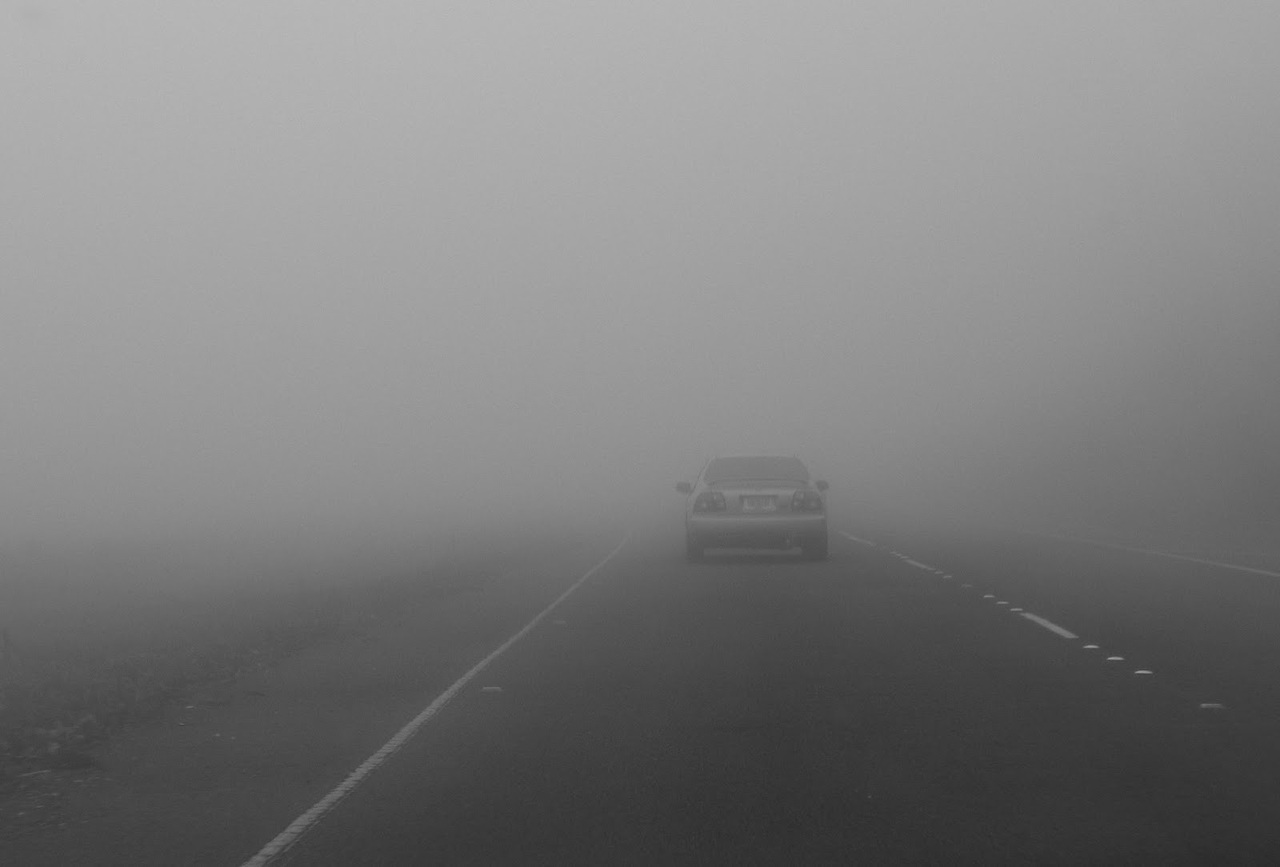car: (681, 456, 828, 563)
